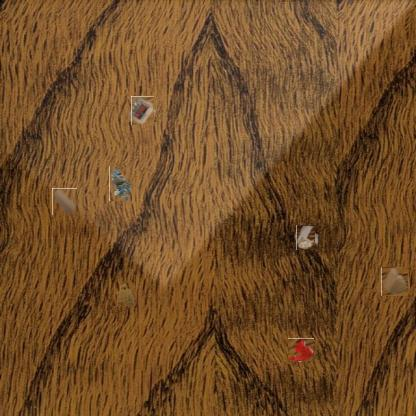dirty: (109, 166, 132, 202), (381, 267, 409, 296), (130, 97, 155, 124), (52, 188, 77, 215), (295, 226, 317, 249)
liquid: (289, 338, 314, 362), (114, 282, 136, 306)
